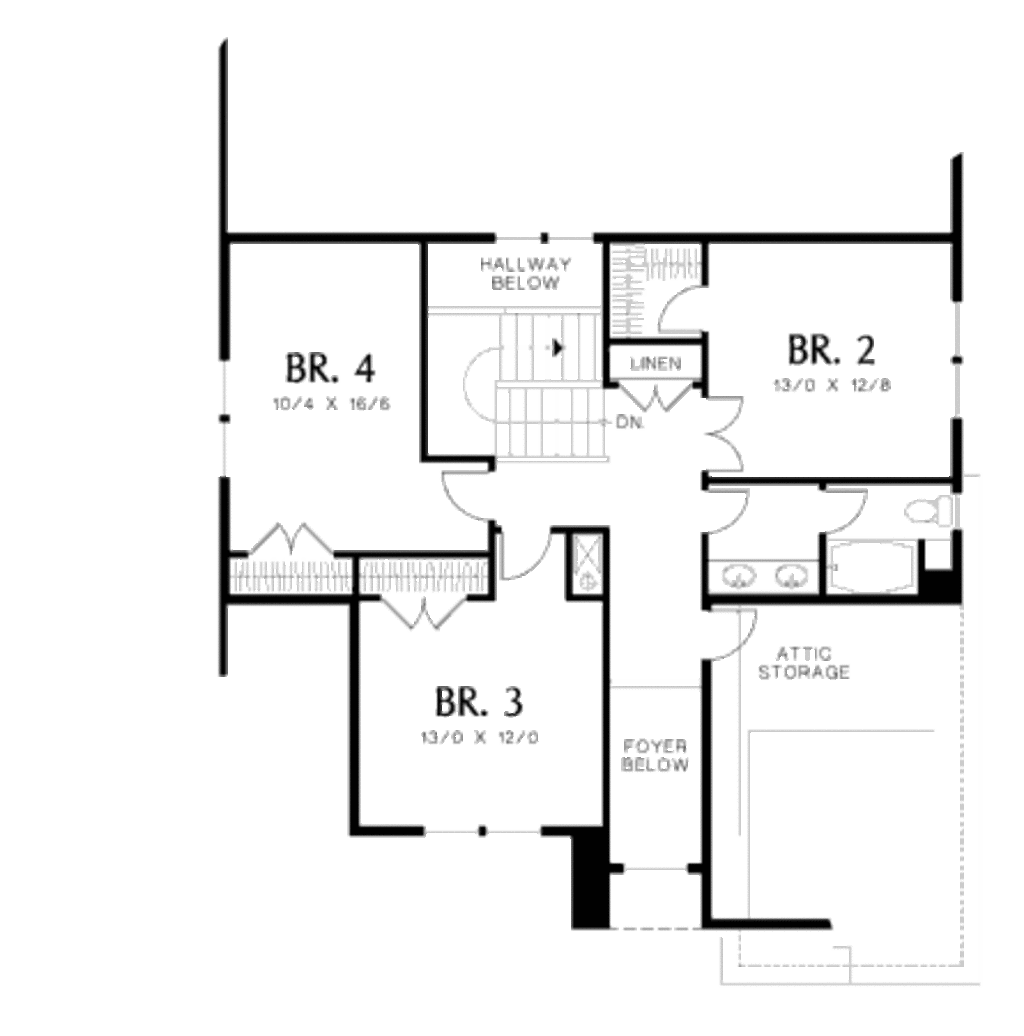door: (243, 519, 339, 561), (698, 388, 747, 469), (485, 527, 555, 583), (690, 474, 751, 537), (437, 467, 493, 528), (661, 283, 718, 337), (379, 595, 466, 628), (821, 480, 866, 540), (619, 374, 687, 412), (709, 606, 758, 658)
large_sink: (900, 477, 964, 530)
small_sink: (700, 554, 818, 593)
stairs: (429, 303, 616, 461)
tub: (827, 540, 926, 593)
window: (218, 359, 234, 482), (424, 824, 529, 840), (490, 233, 585, 245)
